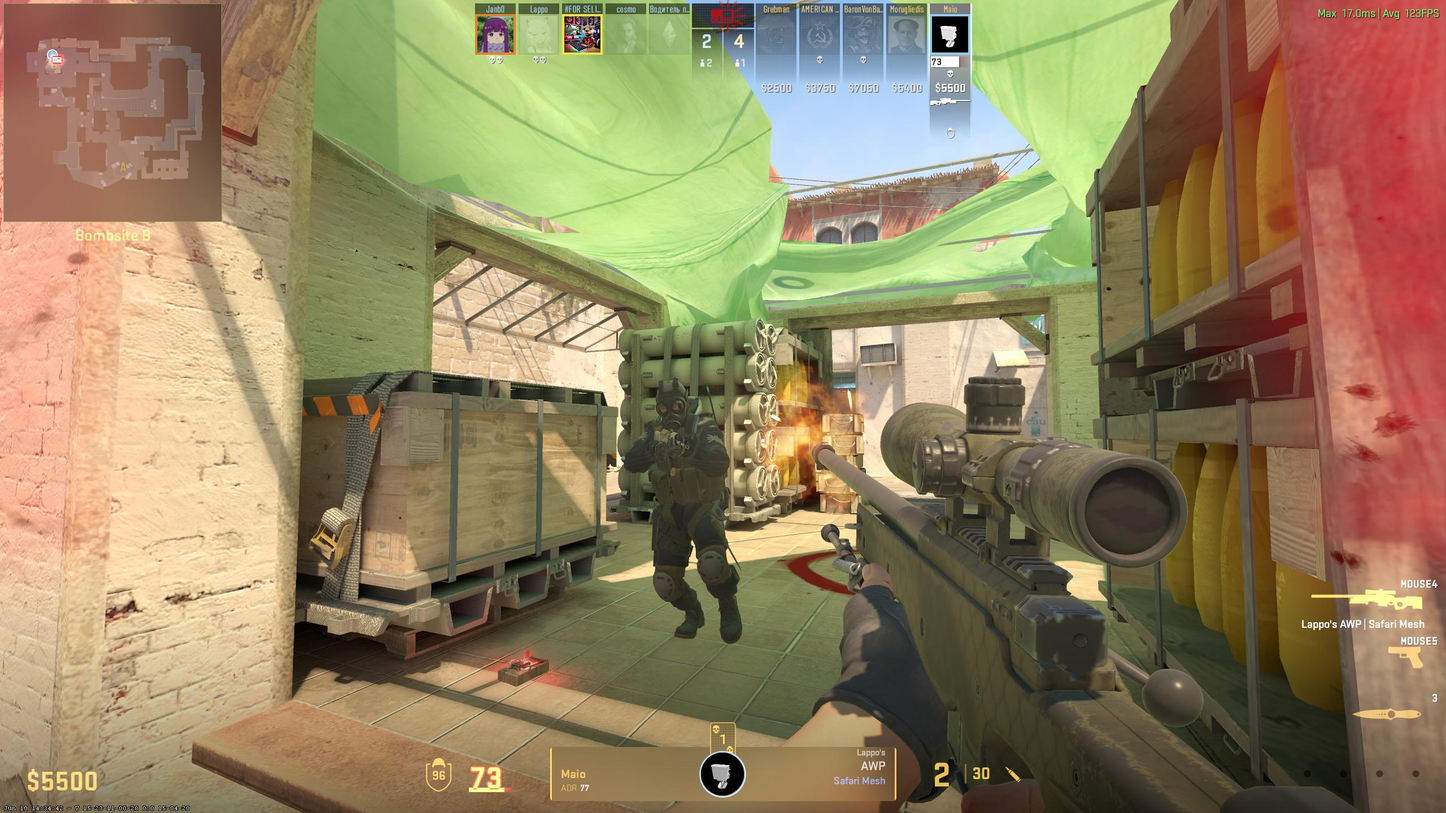CT: (619, 377, 734, 644)
